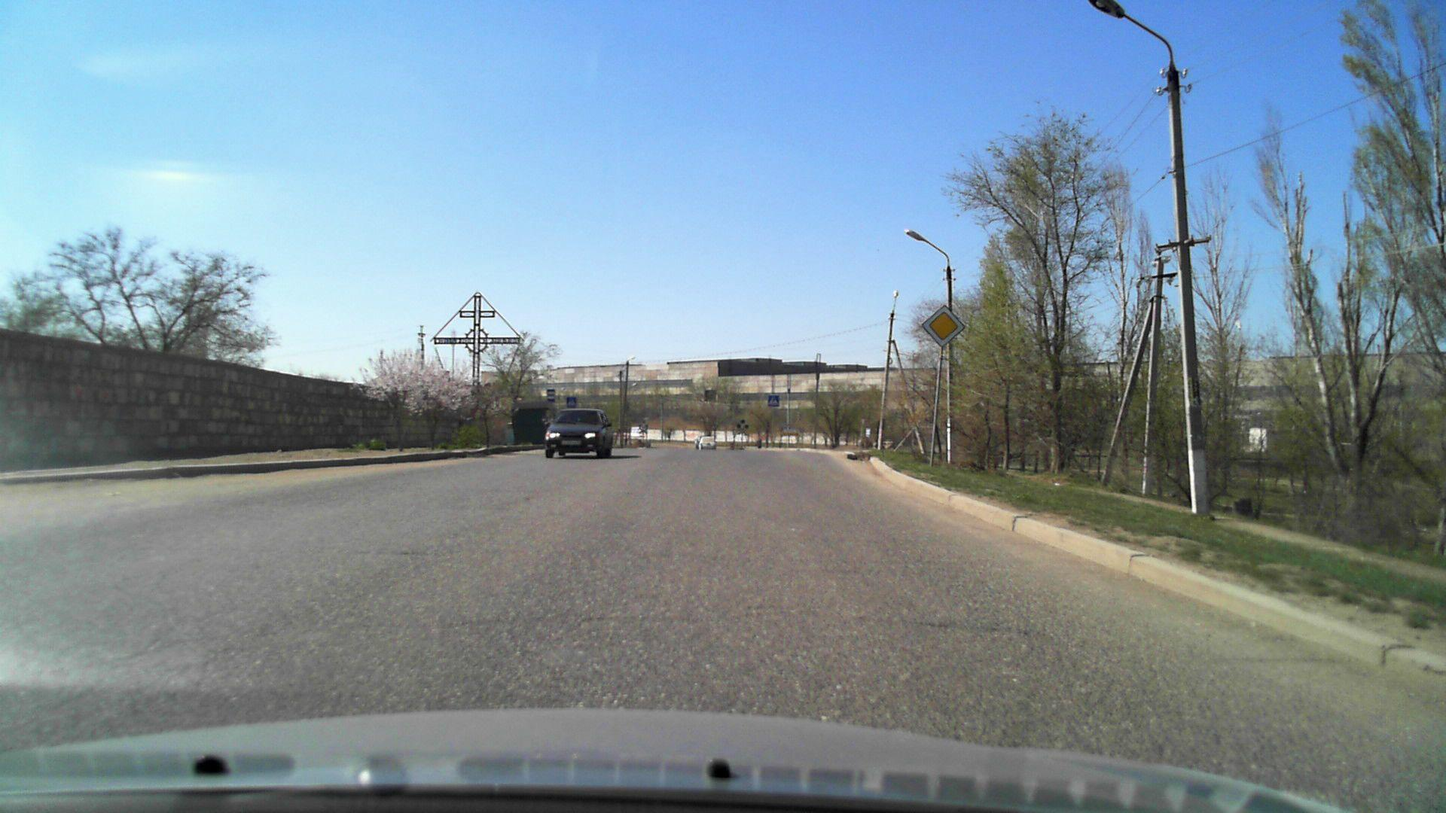road_sign: (918, 303, 968, 350)
